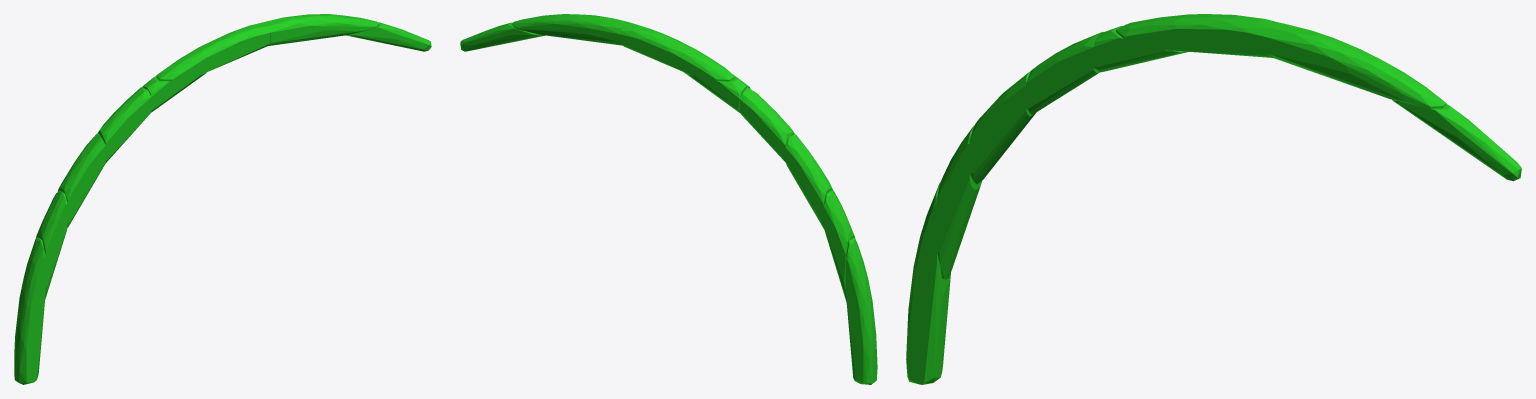
The model's file is Needle.OBJ.
3 renders of one model, left to right at view 1: azimuth 30°, elevation 25°; view 2: azimuth 150°, elevation 25°; view 3: azimuth 330°, elevation 25°, orthographic. The views are drawn at different scales.
Parts seen in each view (by area): view 1: /ambf/env/Needle_/ambf/env/Needle_hull_7; view 2: /ambf/env/Needle_/ambf/env/Needle_hull_7; view 3: /ambf/env/Needle_/ambf/env/Needle_hull_7.
Part boxes in pixels (x1,y1,x2,y2): /ambf/env/Needle_/ambf/env/Needle_hull_7: [14, 14, 431, 384]; /ambf/env/Needle_/ambf/env/Needle_hull_7: [460, 14, 877, 384]; /ambf/env/Needle_/ambf/env/Needle_hull_7: [906, 14, 1521, 384].
Bounding box in the file's own units: 0.2134 × 0.1473 × 0.00987.
